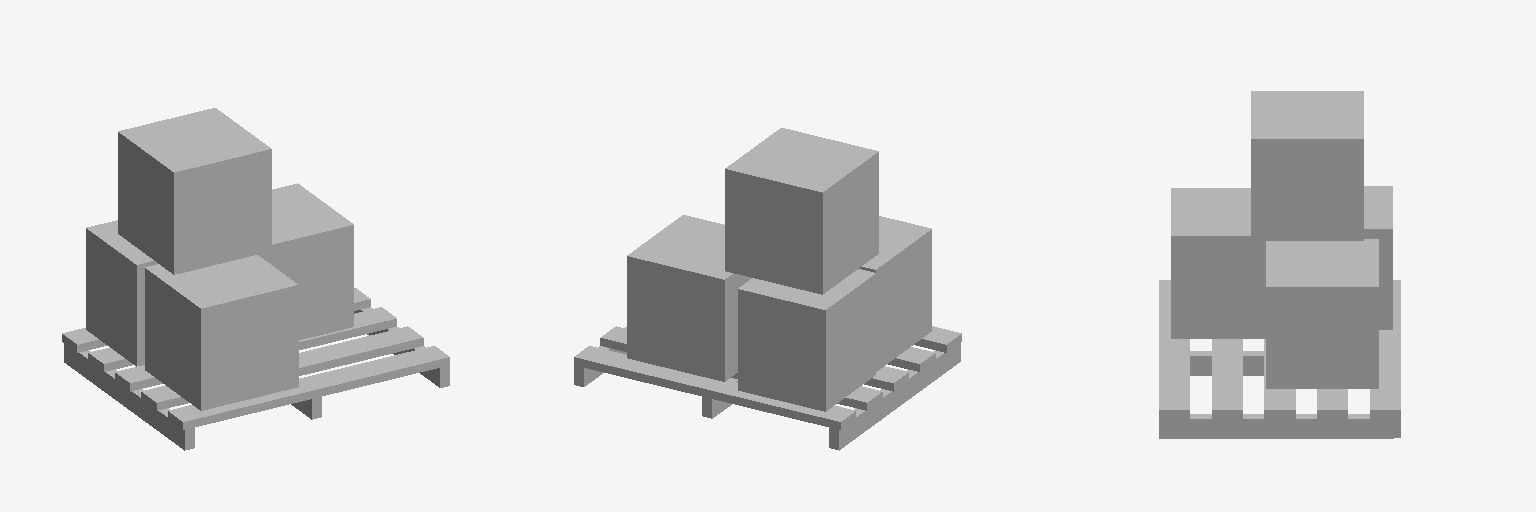
Rendered from Cardboard_wood_pallet_02.obj.
The picture shows the model from 3 angles: view 1: azimuth 30°, elevation 25°; view 2: azimuth 150°, elevation 25°; view 3: azimuth 270°, elevation 25°; orthographic projection.
Parts seen in each view (by area): view 1: Cardboard_wood_pallet_02; view 2: Cardboard_wood_pallet_02; view 3: Cardboard_wood_pallet_02.
Part boxes in pixels (bbox=[...]): Cardboard_wood_pallet_02: bbox=[62, 108, 449, 450]; Cardboard_wood_pallet_02: bbox=[574, 128, 961, 450]; Cardboard_wood_pallet_02: bbox=[1159, 91, 1400, 438].
Size of the model in its own units: 30.55 by 25.82 by 24.04.